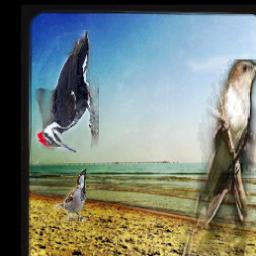Cuckoo: (180, 59, 256, 256)
Sparrow: (54, 167, 87, 221)
Woodpecker: (36, 31, 99, 153)
